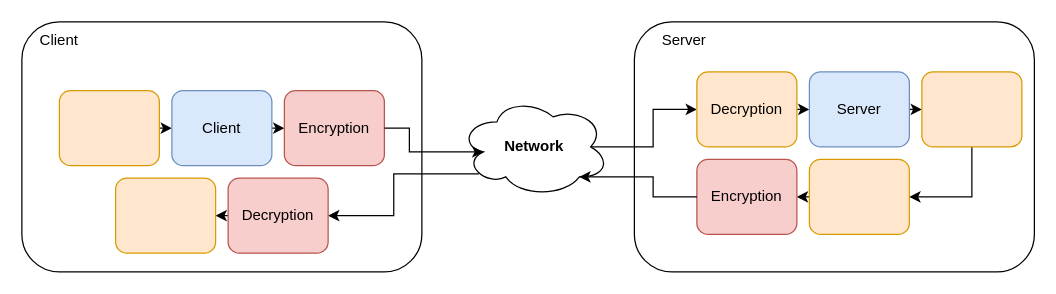
The diagram is 1056 pixels wide and 294 high, and some of its shapes have lost their labels. Here are the shapes that lost their labels. From the top down, the centre of each, then its label:
At [108,127]: "GUI".
At [971,109]: "Start Block".
At [165,215]: "Update Block Button State".
At [858,196]: "Update Other Clients".
